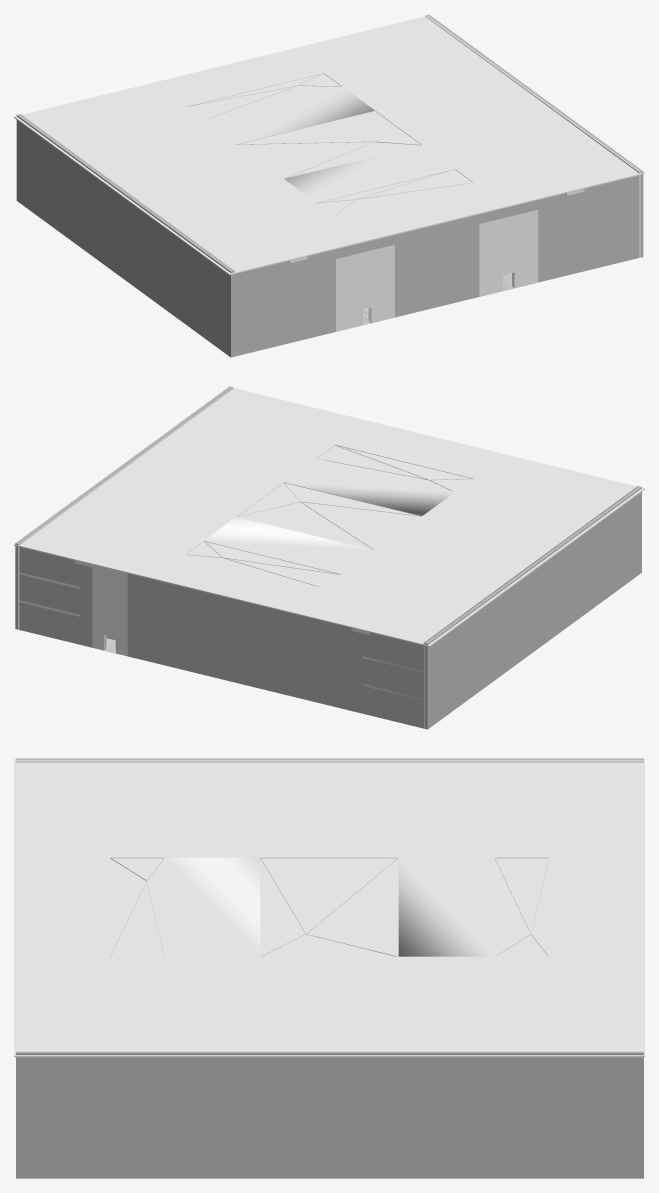
The model's file is VR LOBBY_V1.fbx.
3 renders of one model, top to bottom at view 1: azimuth 30°, elevation 25°; view 2: azimuth 150°, elevation 25°; view 3: azimuth 270°, elevation 25°, orthographic. The views are drawn at different scales.
Parts seen in each view (by area): view 1: Object005, Object006; view 2: Object005; view 3: Object005.
Part boxes in pixels (left/top/right/bottom): Object005: left=14, top=14, right=644, bottom=357; Object006: left=19, top=202, right=638, bottom=357; Object005: left=14, top=386, right=644, bottom=729; Object005: left=14, top=758, right=644, bottom=1178.
Size of the model in its own units: 2466 by 490 by 2213.
